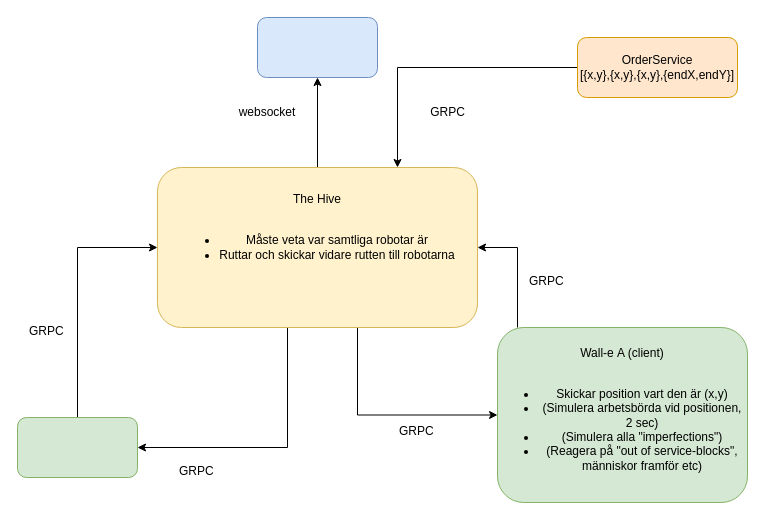
Image size: 765x520. Some labels were removed from this diagram. Each missing label, with the centre of its shape:
Wall-e B (client): [77,447]
Web-UI (Livestreaming): [317,47]
